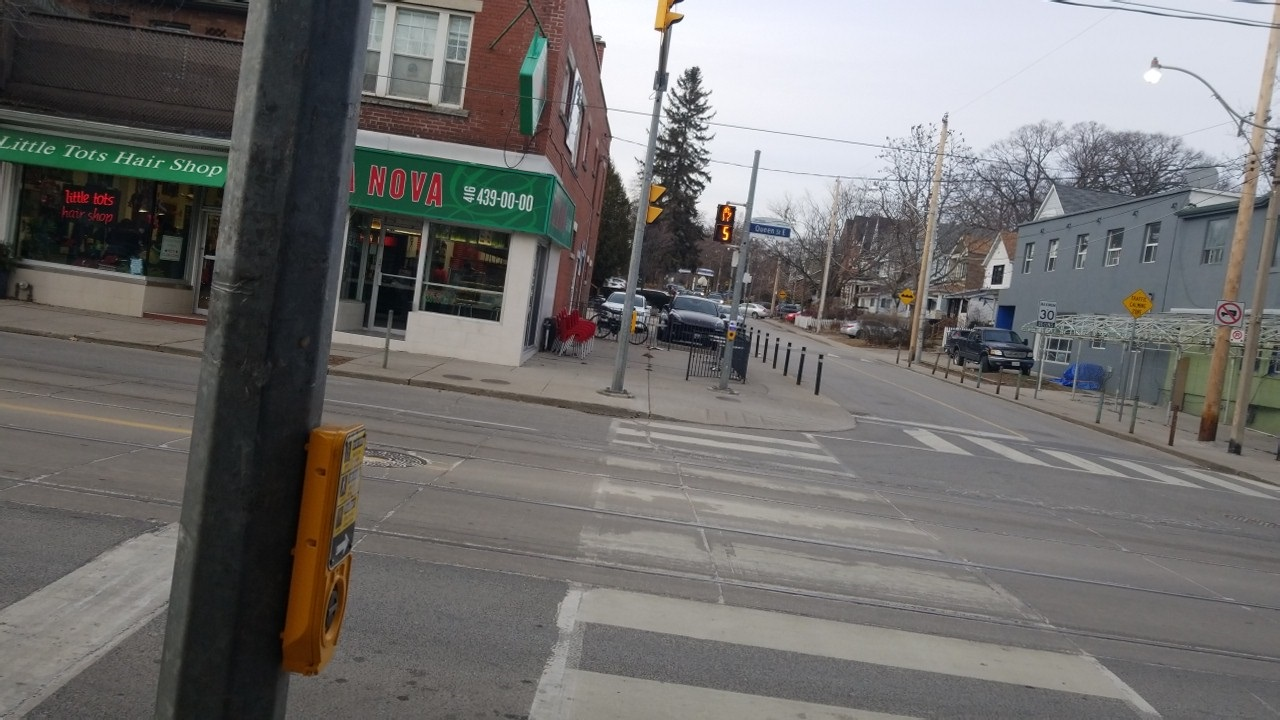light: (714, 203, 736, 247)
